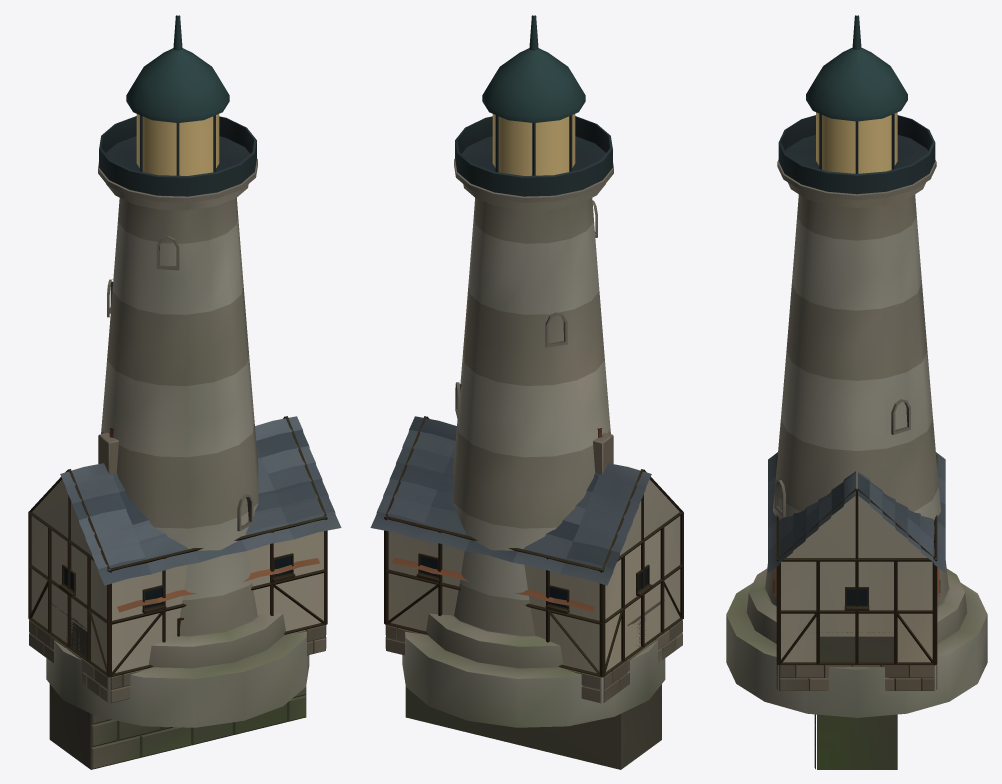
The model's file is props_land.glb.
The picture shows the model from 3 angles, left to right: view 1: azimuth 30°, elevation 25°; view 2: azimuth 150°, elevation 25°; view 3: azimuth 270°, elevation 25°; orthographic projection.
Visible parts, largest first — view 1: lighthouse, cottage_b, quay, cottage_a; view 2: lighthouse, cottage_b, quay, cottage_a; view 3: lighthouse, cottage_b, quay.
Boxes of the visible parts, x1=… form: lighthouse: x1=46, y1=15, x2=309, y2=727; cottage_b: x1=28, y1=416, x2=341, y2=703; quay: x1=49, y1=603, x2=306, y2=769; cottage_a: x1=117, y1=558, x2=320, y2=612; lighthouse: x1=402, y1=15, x2=665, y2=727; cottage_b: x1=370, y1=416, x2=683, y2=703; quay: x1=405, y1=600, x2=664, y2=769; cottage_a: x1=391, y1=558, x2=594, y2=612; lighthouse: x1=726, y1=15, x2=987, y2=717; cottage_b: x1=768, y1=452, x2=945, y2=690; quay: x1=814, y1=632, x2=897, y2=769.
Bounding box in the file's own units: 13.2 × 38 × 12.8.
